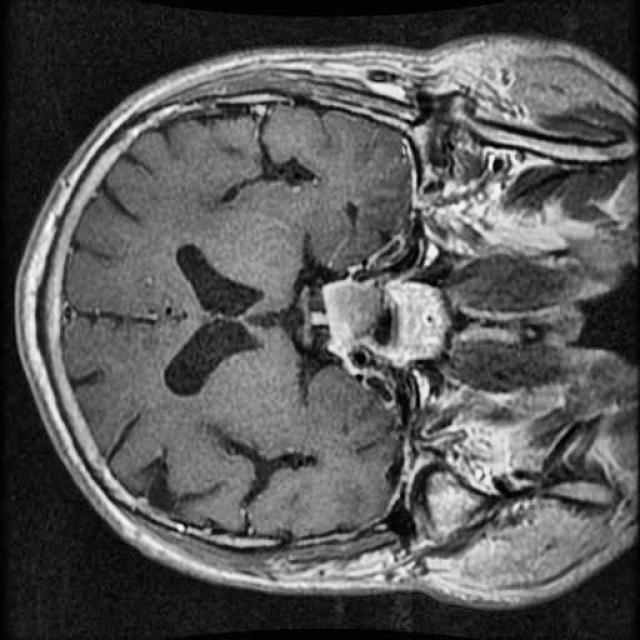Tumor: (301, 264, 415, 375)
